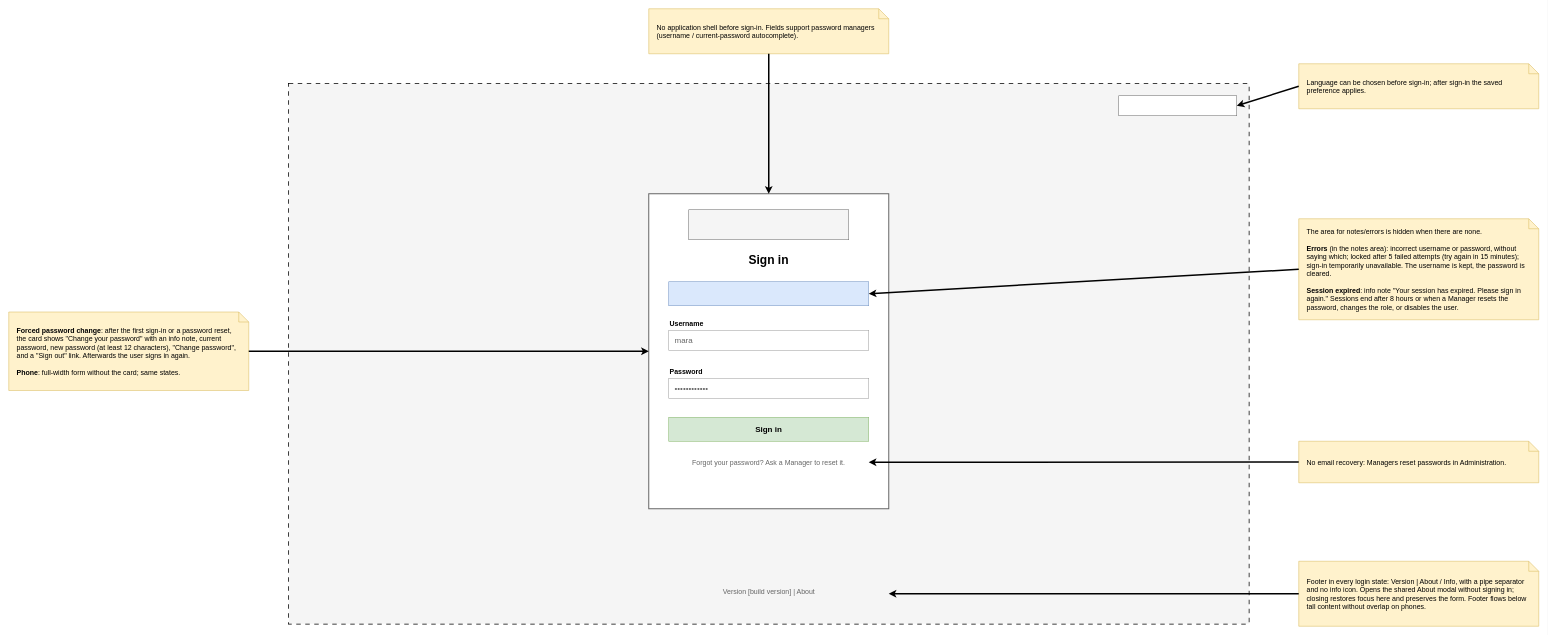
Some shapes in this 1548 by 635 pixel diagram are drawn without their labels. The box of each missing label's shape, as (x1, y1, x2, y2) in pixels:
App logo: (688, 209, 849, 240)
Deutsch | English: (1118, 95, 1237, 116)
Notes/errors: (668, 281, 869, 306)
